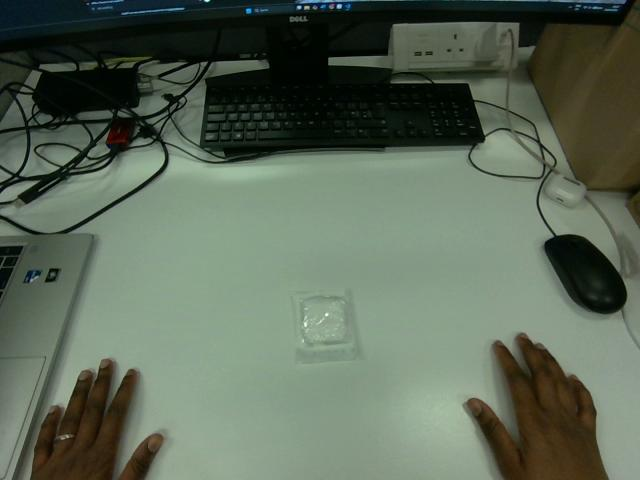gauze: (292, 291, 360, 363)
